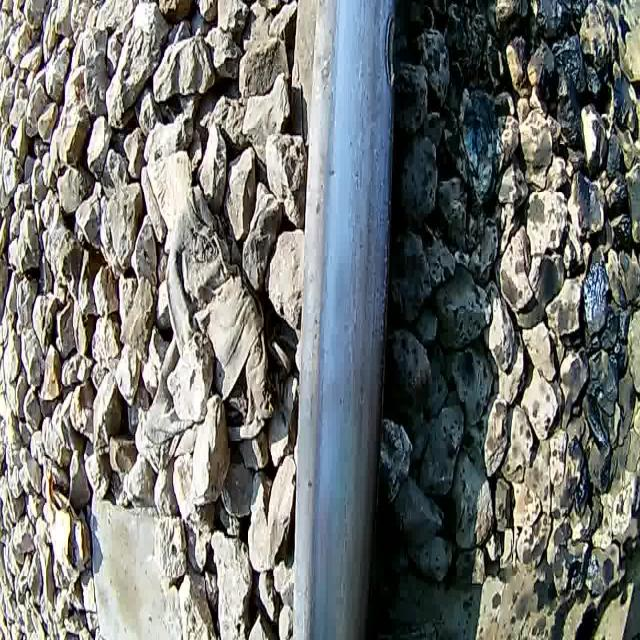Grooves: (344, 207, 362, 427), (352, 51, 368, 201)
Shellings: (374, 225, 392, 448), (372, 100, 394, 242), (363, 192, 374, 328)
Squats: (380, 3, 400, 95)
